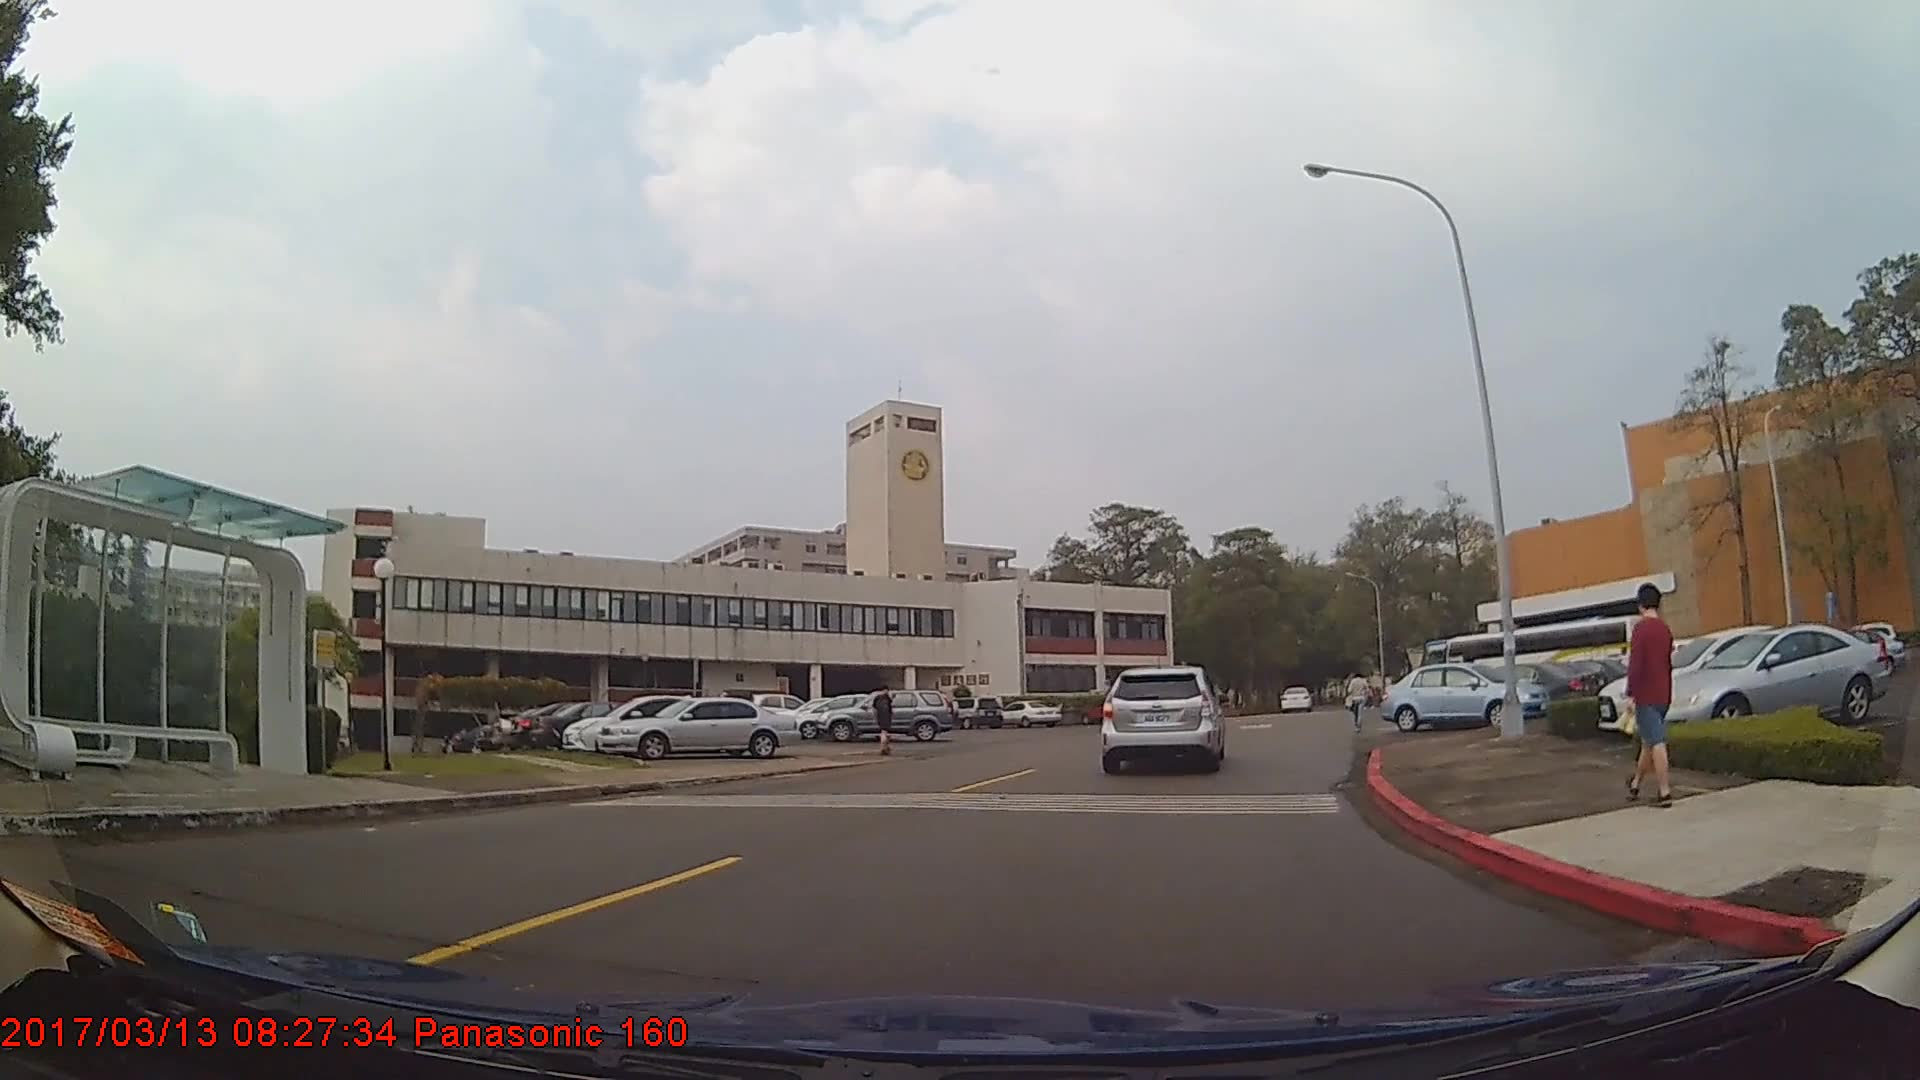pedestrian: (1626, 580, 1680, 807), (1344, 662, 1373, 729), (873, 684, 899, 755)
vehicle: (1596, 623, 1845, 729), (1655, 618, 1891, 729), (1102, 664, 1223, 774), (597, 696, 800, 759), (559, 690, 760, 751), (1375, 659, 1550, 730), (529, 697, 675, 750), (1448, 662, 1598, 711), (819, 687, 957, 740), (938, 693, 1003, 728), (994, 696, 1062, 727), (1280, 678, 1313, 708)
